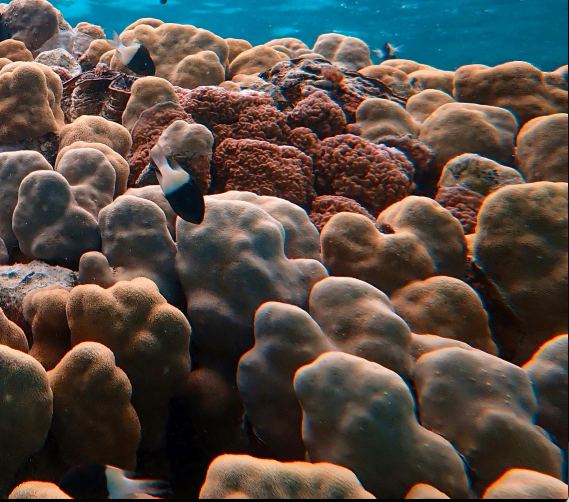fishRound: (147, 135, 207, 225), (55, 459, 168, 501), (102, 27, 157, 78), (382, 38, 405, 57), (372, 45, 396, 62)
